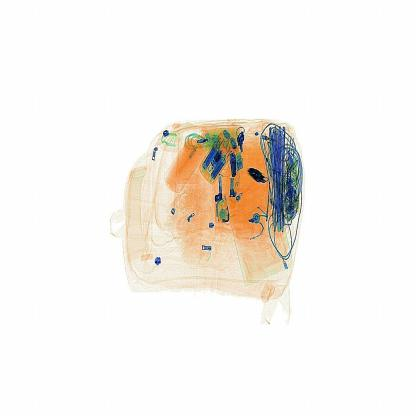scissors: (240, 161, 274, 204)
